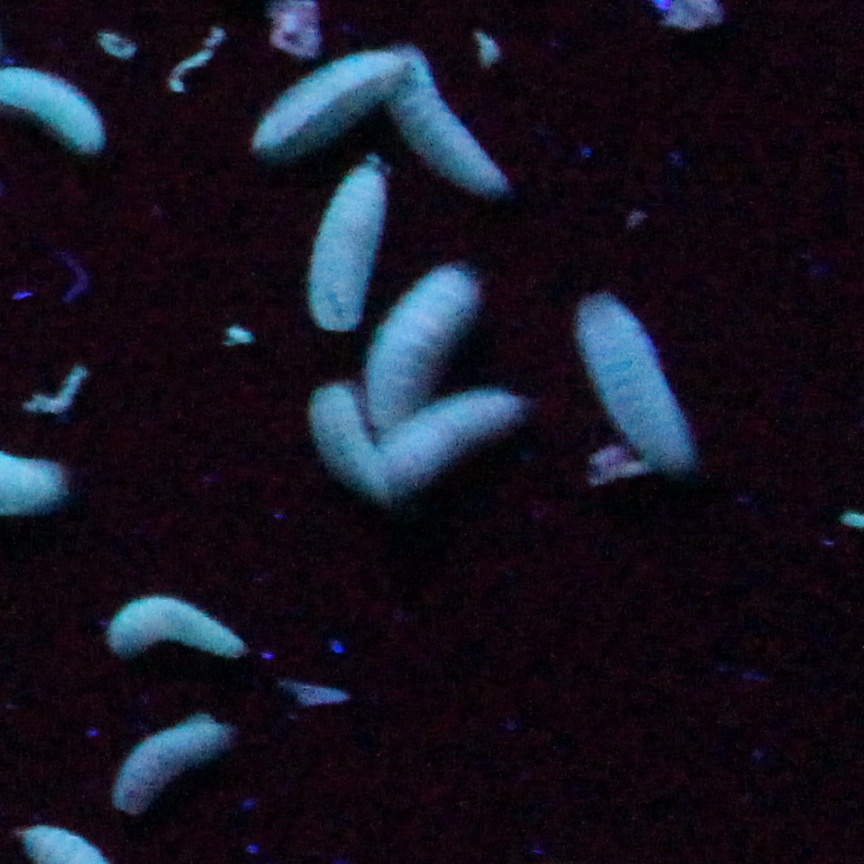larve: (579, 284, 697, 475), (368, 267, 475, 424), (258, 41, 403, 150), (394, 50, 511, 185), (384, 387, 517, 491), (305, 379, 384, 500), (121, 718, 222, 808), (107, 587, 238, 655), (326, 155, 372, 332)
